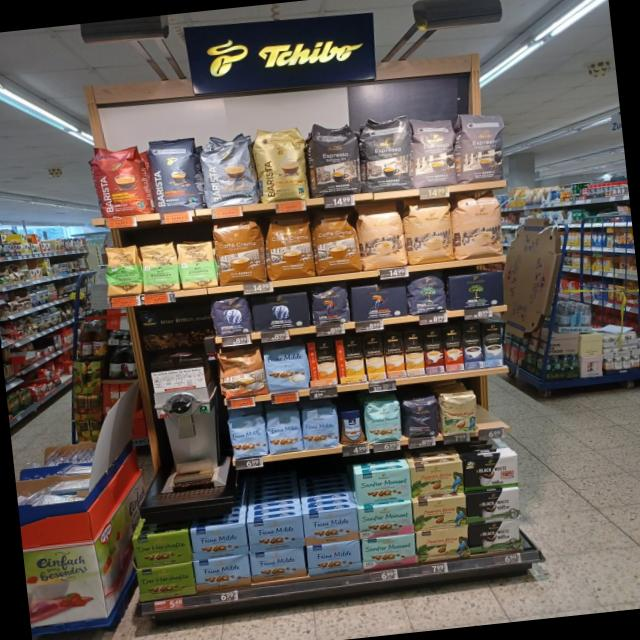AB Bohne: (210, 294, 252, 338)
AB Gemahlen: (250, 290, 311, 332)
Athiopien Bohne: (104, 244, 142, 297)
Athiopien Gemahlen: (175, 238, 218, 290), (139, 241, 180, 293)
BM Bohne: (407, 272, 448, 316)
BM Gemahlen: (446, 270, 506, 310)
BW Gemahlen: (463, 453, 521, 492), (465, 488, 523, 524), (467, 519, 522, 554)
Barista CB: (253, 124, 309, 204)
Barista CC: (200, 130, 258, 207)
Barista Espresso: (144, 135, 203, 213)
Barista Kolumbien: (86, 140, 152, 220)
C Fino Bohne: (402, 396, 442, 439)
CC Mild: (452, 190, 506, 260), (354, 200, 408, 270), (402, 196, 456, 265)
CC Vollmundig: (216, 346, 267, 399)
CC Vollmundig 36 Pads: (210, 214, 268, 286), (262, 210, 316, 282), (310, 206, 362, 275)
Colombia BB Bohne: (438, 390, 479, 436)
Colombia BB Gemahlen: (410, 460, 466, 498), (414, 526, 471, 563), (413, 495, 468, 531)
Espresso M Art: (456, 107, 512, 184), (408, 112, 461, 187)
Espresso S Art: (356, 111, 416, 192), (306, 118, 362, 196)
FM 36 Pads: (263, 341, 311, 394)
FM Bohne: (226, 413, 268, 459), (264, 408, 304, 454), (300, 404, 340, 450)
FM Gemahlen: (246, 514, 305, 553), (192, 554, 252, 592), (190, 522, 248, 560), (302, 507, 359, 545), (249, 546, 307, 582), (306, 540, 362, 576)
FM Instant: (336, 406, 366, 446)
Herzhatfe Mundig: (135, 562, 196, 602), (130, 530, 192, 568)
LG Bohne: (309, 284, 350, 326)
LG Gemahlen: (349, 282, 408, 322)
SM Bohne: (363, 396, 404, 444)
SM Gemahlen: (353, 466, 412, 505), (360, 532, 418, 570), (357, 502, 413, 538)
Simo CCMild: (335, 336, 366, 384)
Simo CCMild bigpack: (361, 334, 386, 380)
Simo CCVollmundig: (306, 339, 338, 386)
Simo CCVollmundig bigpack: (382, 332, 406, 378)
Simo Decaff: (402, 330, 426, 376)
Simo Es Brazil: (441, 326, 464, 372)
Simo Es Caramel: (422, 328, 445, 374)
Simo Es Kraft: (461, 322, 484, 370)
Simo Es Vanilla: (480, 320, 506, 368)
